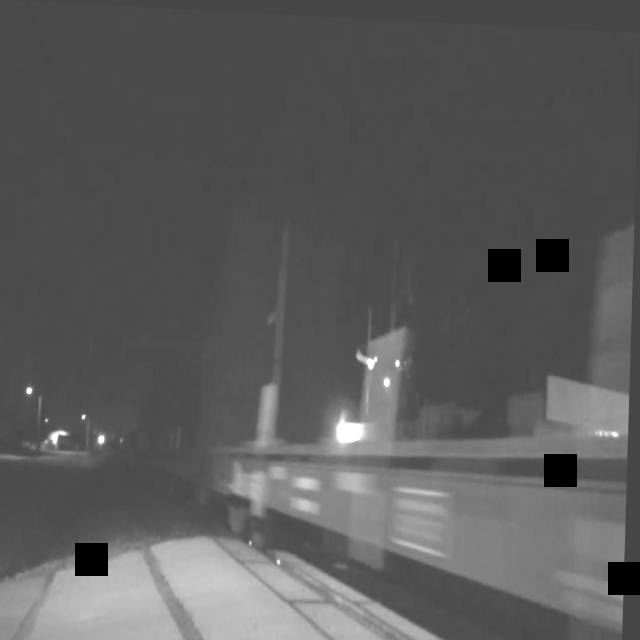flatcar_bulkhead: (201, 154, 636, 640)
